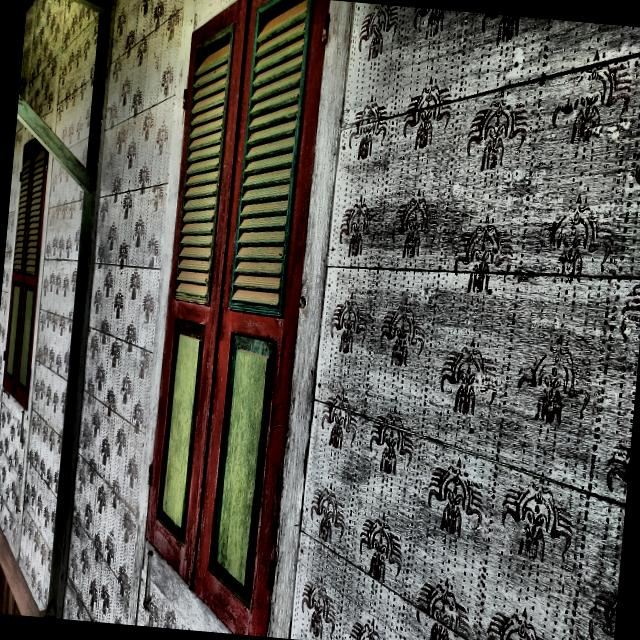wall: (62, 0, 640, 640), (0, 117, 83, 610), (19, 0, 98, 168)
window: (144, 0, 329, 636), (2, 138, 48, 411)
